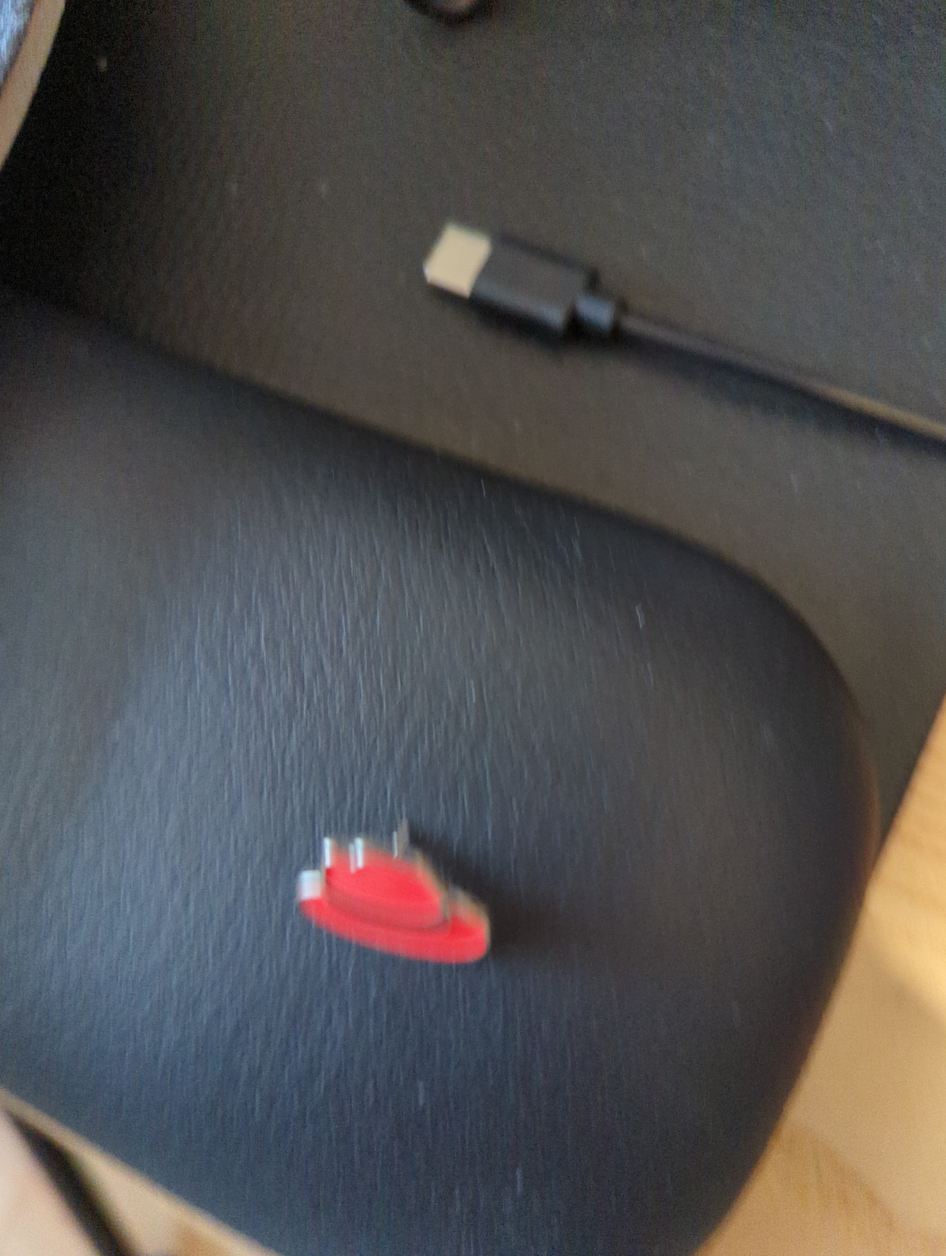Red-Hat: (245, 744, 558, 1028)
